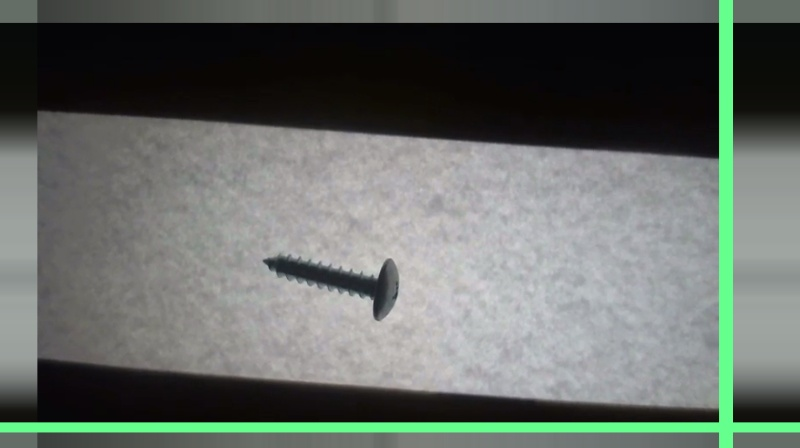S003: (259, 248, 401, 323)
